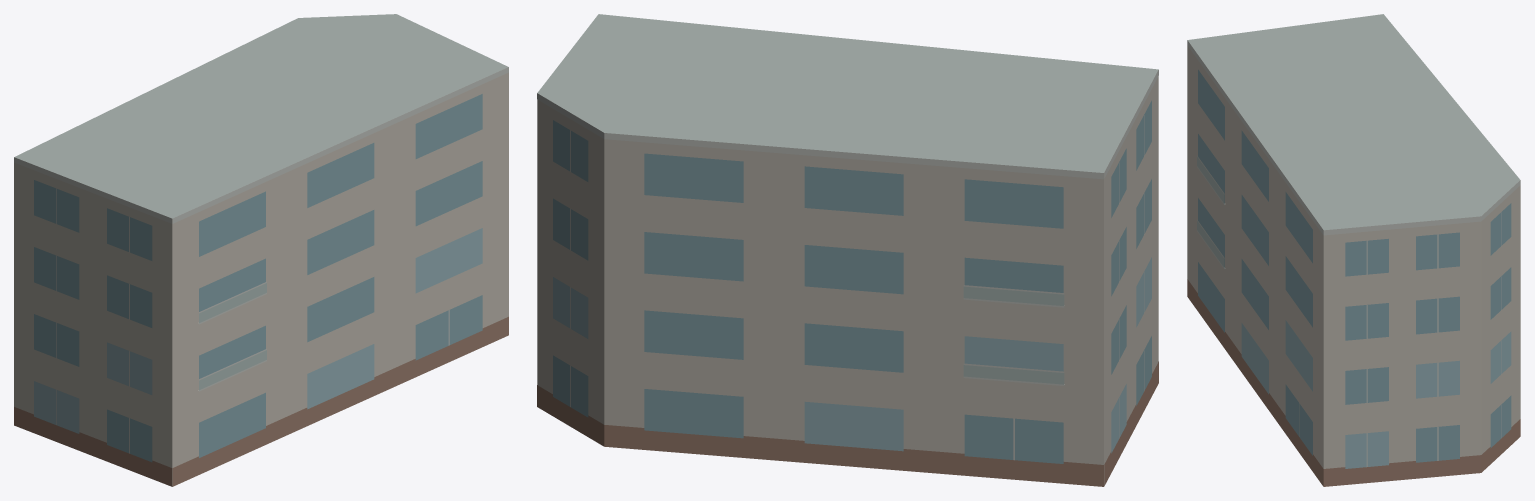
Rendered from survey-upis-32807638.glb.
3 renders of one model, left to right at view 1: azimuth 30°, elevation 25°; view 2: azimuth 150°, elevation 25°; view 3: azimuth 270°, elevation 25°, orthographic. The views are drawn at different scales.
Visible parts, largest first — view 1: survey-upis-32807638.tmp; view 2: survey-upis-32807638.tmp; view 3: survey-upis-32807638.tmp.
Part boxes in pixels (bbox=[...]): survey-upis-32807638.tmp: bbox=[14, 14, 508, 486]; survey-upis-32807638.tmp: bbox=[537, 14, 1158, 486]; survey-upis-32807638.tmp: bbox=[1187, 14, 1520, 486].
Bounding box in the file's own units: 22.07 × 12.2 × 14.36.
